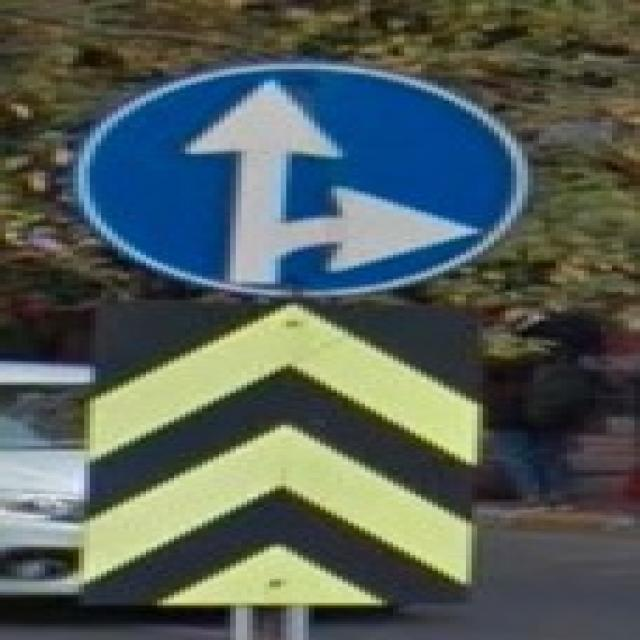Straight or Right: (77, 65, 520, 293)
